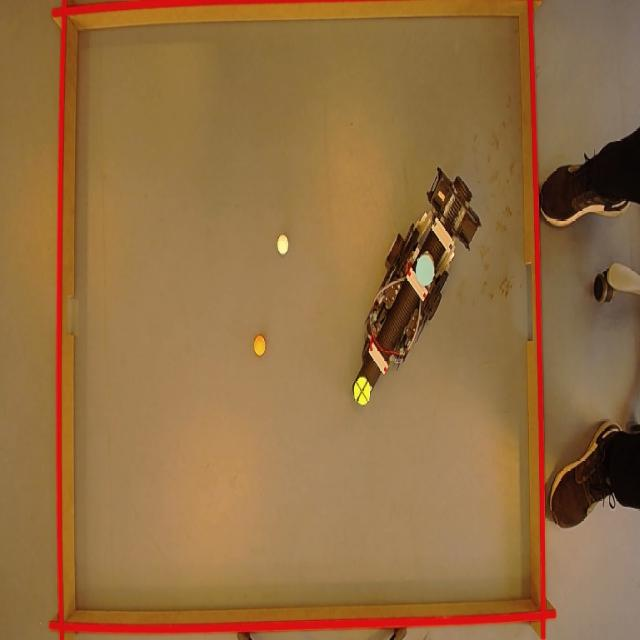orange: (254, 336, 267, 355)
robot: (350, 163, 483, 408)
robot-front: (353, 376, 371, 406)
robot-rear: (414, 251, 434, 286)
white: (275, 234, 289, 254)
